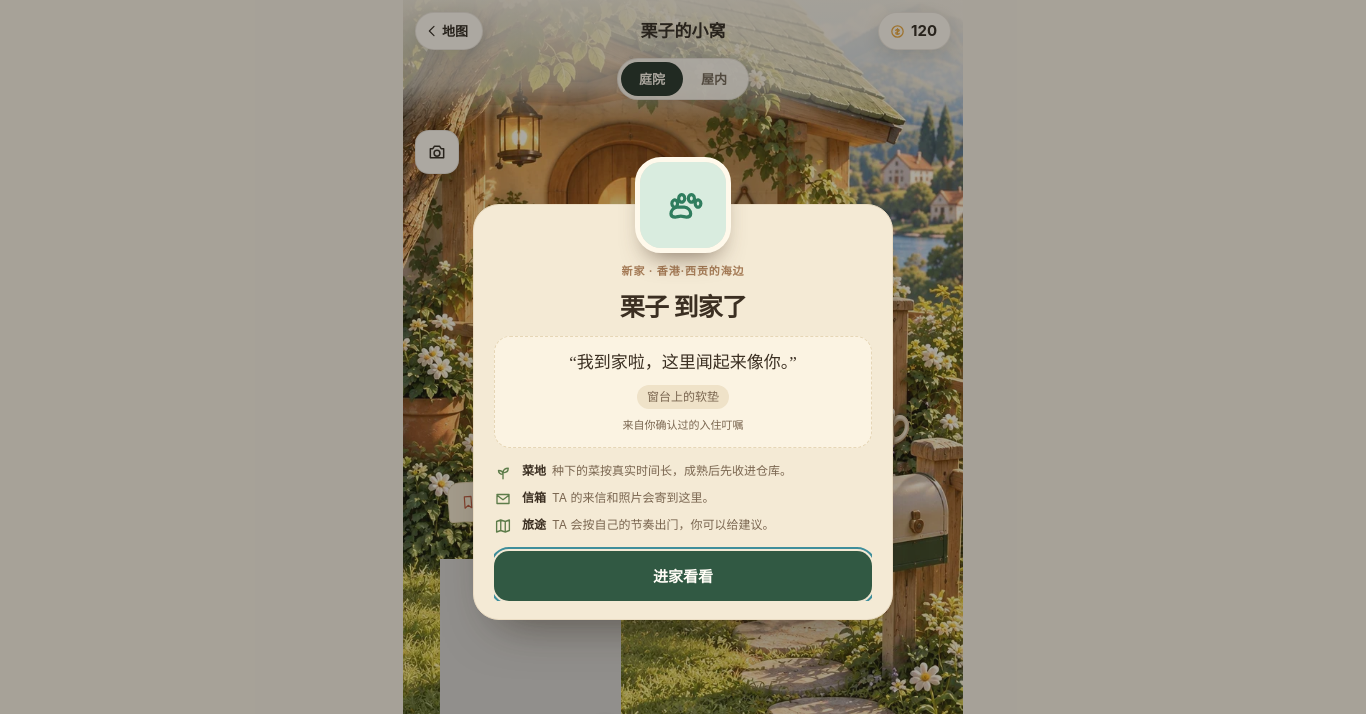
Test: first arrival at home › plays once after move-in with the confirmed greeting, then goes away
Expected: the text "“我到家啦，这里闻起来像你。”" is shown, [569, 353, 797, 372]
Expected: the list item "窗台上的软垫" is shown, [637, 385, 729, 409]
Step 1. Click the button "进家看看" → {"x": 683, "y": 576}, box [494, 551, 872, 601]
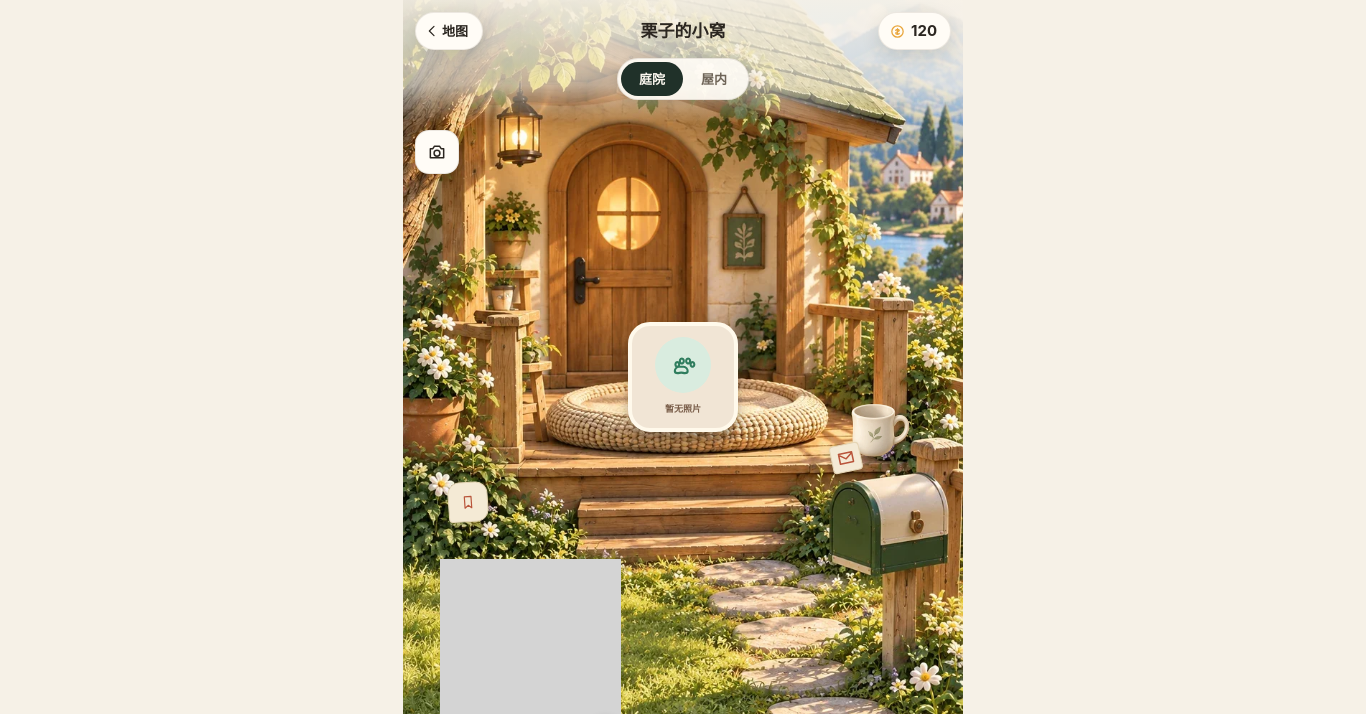
Now the heading "栗子 到家了" is gone
